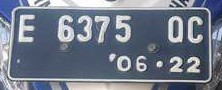plate: (10, 5, 214, 82)
